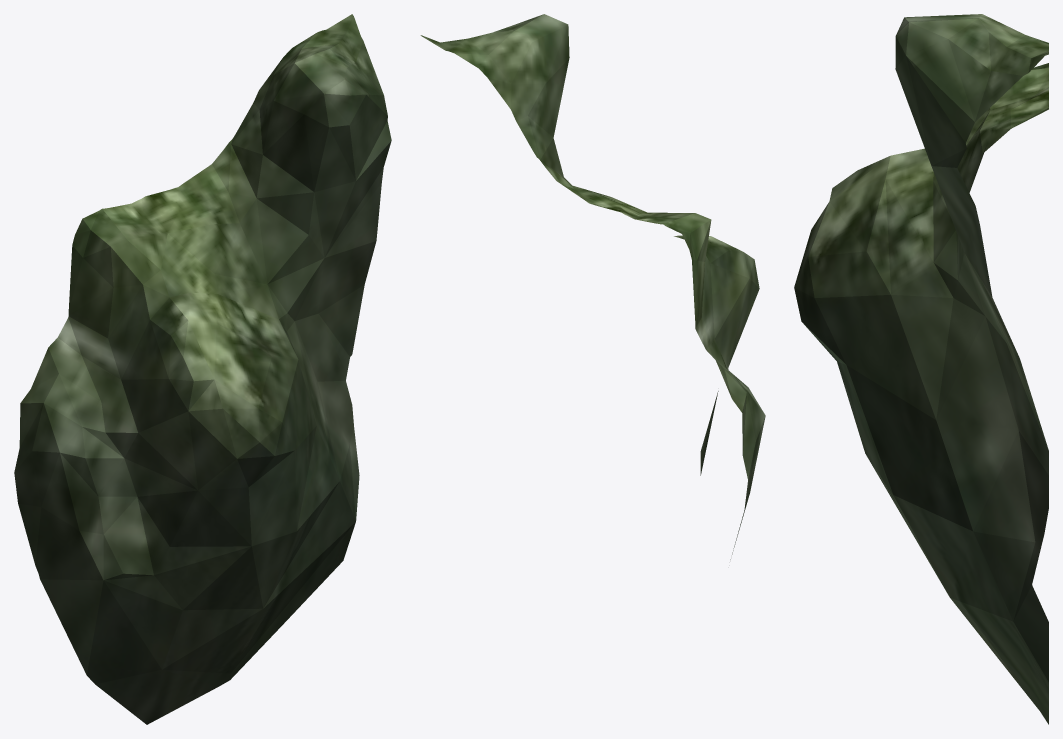
The picture shows the model from 3 angles, left to right: view 1: azimuth 30°, elevation 25°; view 2: azimuth 150°, elevation 25°; view 3: azimuth 270°, elevation 25°; orthographic projection. The views are drawn at different scales.
Bounding box in the file's own units: 1.44 × 2.69 × 0.8077.
Materials: 2 (2 with a texture image).
